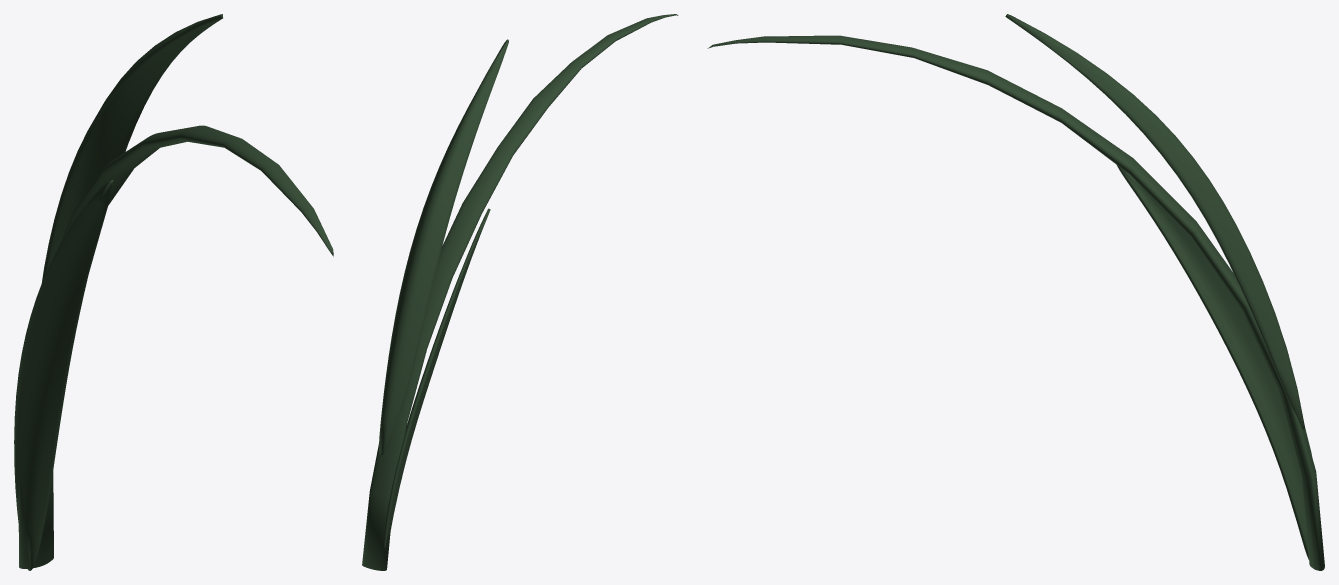
Rendered from SM_Iris_Grass_Bend2.fbx.
3 renders of one model, left to right at view 1: azimuth 30°, elevation 25°; view 2: azimuth 150°, elevation 25°; view 3: azimuth 270°, elevation 25°, orthographic. The views are drawn at different scales.
Parts seen in each view (by area): view 1: SM_Flower_Iris_Grass_Bend2; view 2: SM_Flower_Iris_Grass_Bend2; view 3: SM_Flower_Iris_Grass_Bend2.
Boxes of the visible parts, x1,y1,x2,y2 form: SM_Flower_Iris_Grass_Bend2: (14,14,333,570); SM_Flower_Iris_Grass_Bend2: (362,14,678,570); SM_Flower_Iris_Grass_Bend2: (707,14,1324,570).
Bounding box in the file's own units: 16.28 × 96.83 × 98.91.
